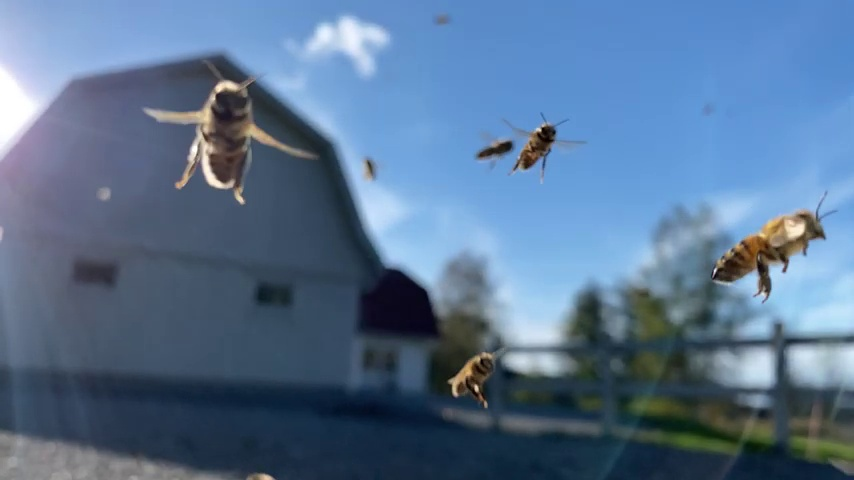insect: (137, 62, 318, 202), (700, 191, 838, 298), (474, 112, 579, 183), (444, 346, 509, 408)
